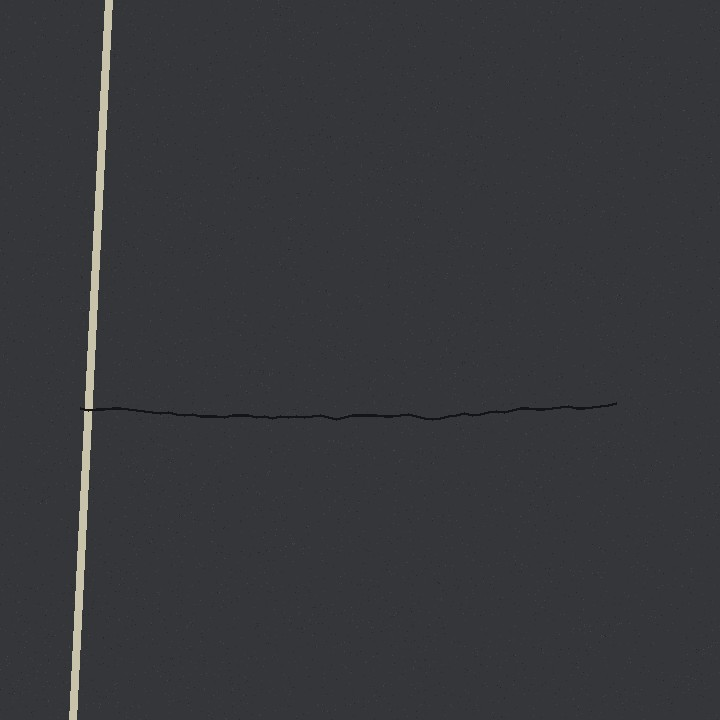D10: (80, 380, 620, 440)
